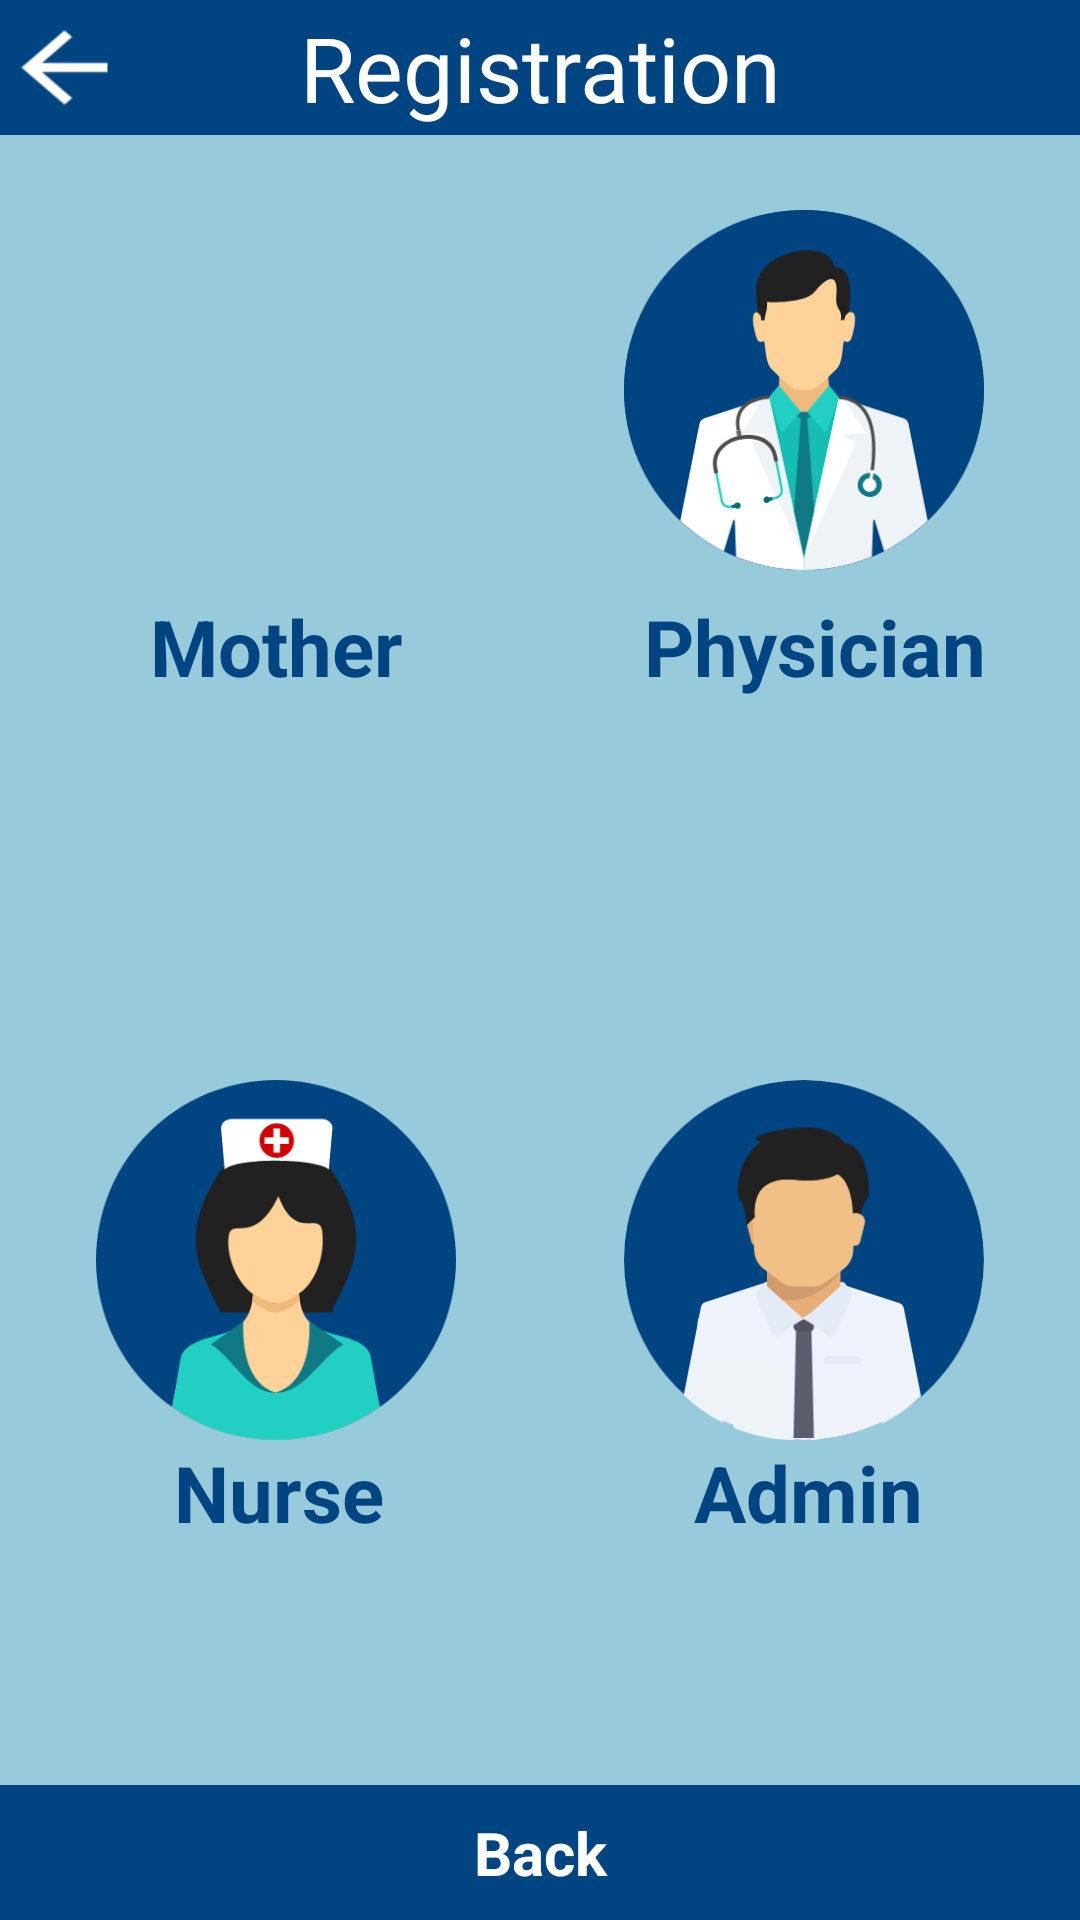

Icon click points for this 1080*1920 phone screenshot, format [x,y]:
back: [64,67]
